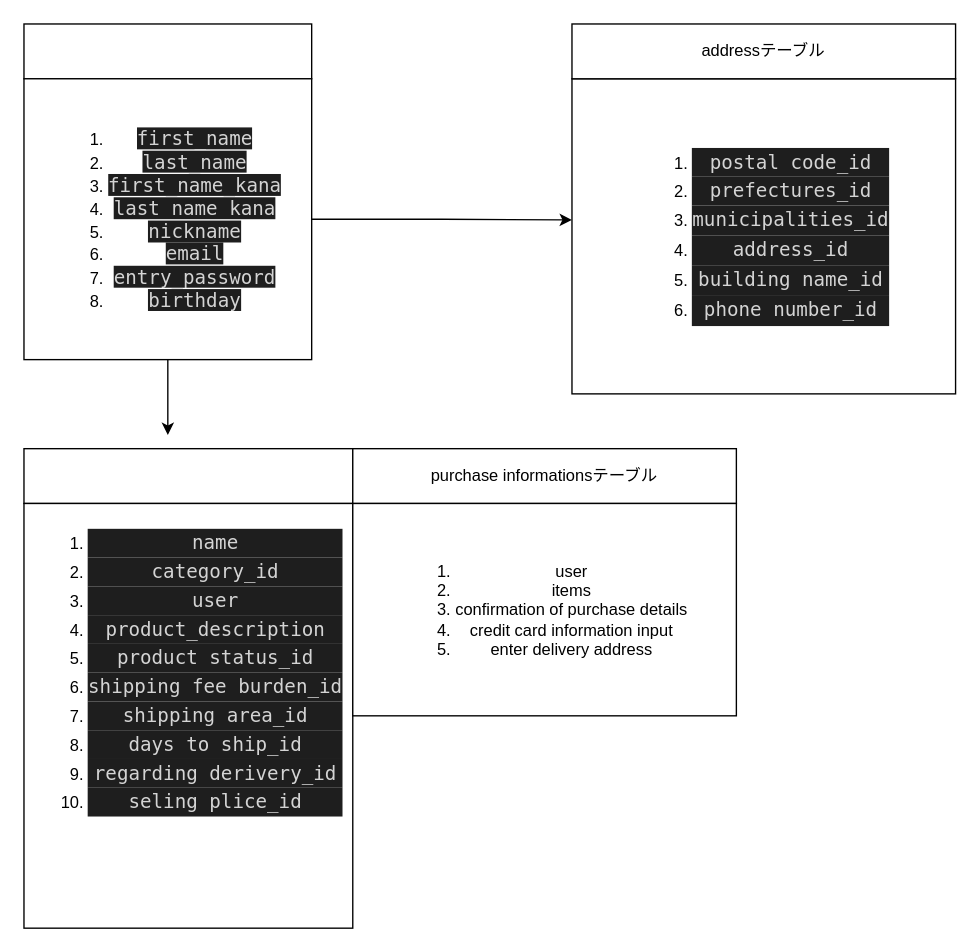
The diagram is 980 pixels wide and 952 high, and some of its shapes have lost their labels. Each missing label, with the box of its shape:
itemsテーブル: (23, 447, 353, 503)
usersテーブル: (23, 23, 312, 79)
